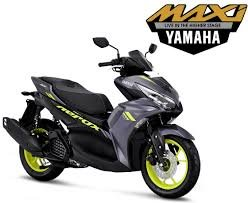motor: (13, 56, 201, 194)
